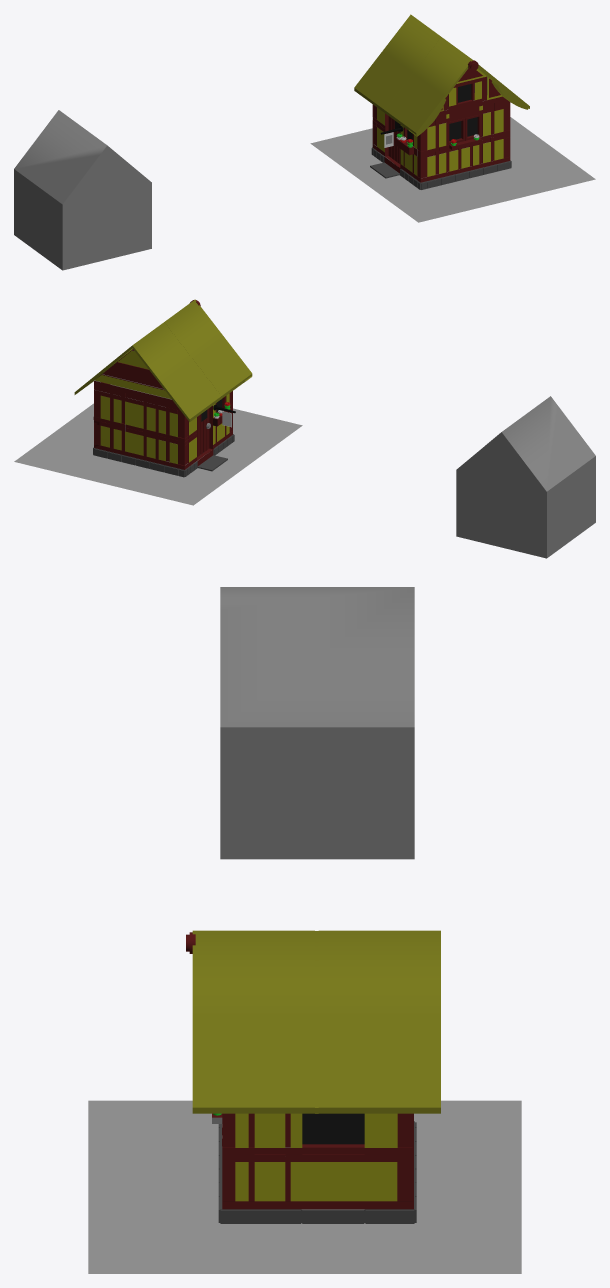
The model's file is house3.fbx.
The picture shows the model from 3 angles, top to bottom: view 1: azimuth 30°, elevation 25°; view 2: azimuth 150°, elevation 25°; view 3: azimuth 270°, elevation 25°; orthographic projection. The views are drawn at different scales.
Visible parts, largest first — view 1: Box001, Plane001, Box003, Box002, Box004; view 2: Box001, Box003, Plane001, Box002, Box004; view 3: Box001, Plane001, Box002, Box003, Box004.
Boxes of the visible parts, x1,y1,x2,y2 form: Box001: (14, 110, 151, 270); Plane001: (310, 117, 595, 222); Box003: (372, 69, 510, 182); Box002: (354, 14, 529, 135); Box004: (371, 147, 511, 189); Box001: (456, 396, 595, 558); Box003: (93, 349, 232, 469); Plane001: (14, 403, 302, 505); Box002: (74, 299, 252, 422); Box004: (93, 434, 234, 477); Box001: (220, 587, 414, 859); Plane001: (88, 1100, 521, 1273); Box002: (192, 930, 440, 1113); Box003: (212, 1113, 413, 1209); Box004: (218, 1121, 416, 1223).
Size of the model in its own units: 1661 by 395 by 623.
